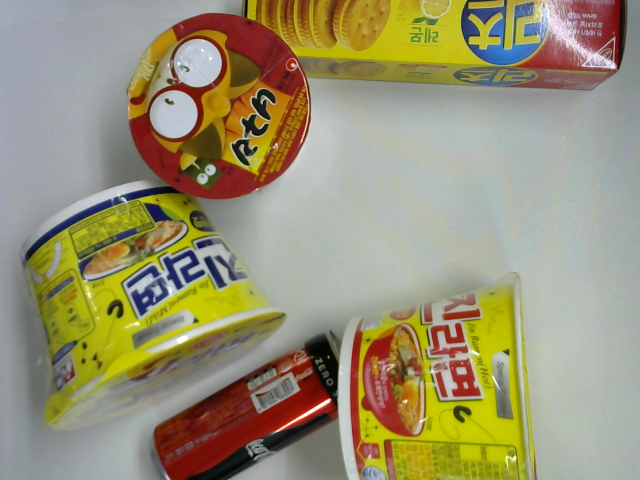Coca_Cola_Zero_Can_250ml: (153, 332, 344, 480)
Jinlamyeon_Hot_Taste_Large_Cup: (336, 270, 542, 480)
Jinlamyeon_Mild_Taste_Large_Cup: (19, 176, 287, 434)
Raccoon: (126, 12, 312, 199)
Ritz_Remon_96g: (243, 1, 627, 90)
